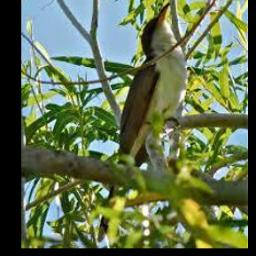Cuckoo: (97, 2, 187, 243)
